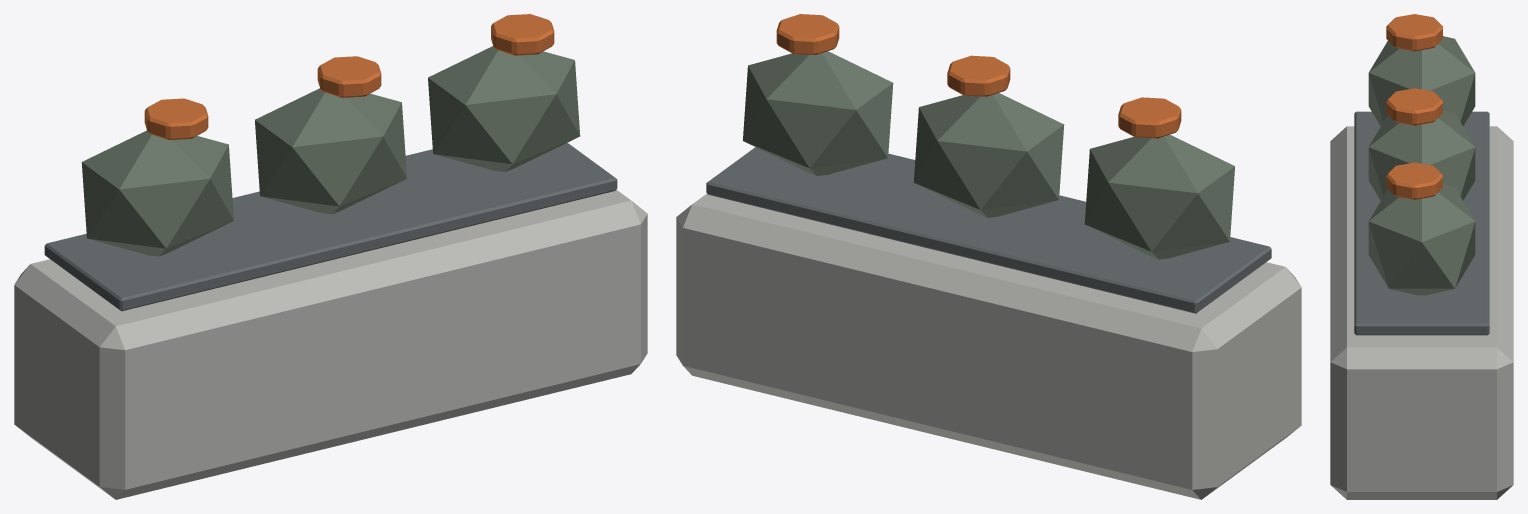
The model's file is PRP_CITY_011_planter_box_pair.glb.
3 views of the same model, side by side, from view 1: azimuth 30°, elevation 25°; view 2: azimuth 150°, elevation 25°; view 3: azimuth 270°, elevation 25° (orthographic). The views are drawn at different scales.
Visible parts, largest first — view 1: PRP_CITY_011_planter_box_pair_RenderMesh; view 2: PRP_CITY_011_planter_box_pair_RenderMesh; view 3: PRP_CITY_011_planter_box_pair_RenderMesh.
Boxes of the visible parts, <box> form: PRP_CITY_011_planter_box_pair_RenderMesh: <box>14,14,647,499</box>; PRP_CITY_011_planter_box_pair_RenderMesh: <box>676,14,1301,499</box>; PRP_CITY_011_planter_box_pair_RenderMesh: <box>1330,14,1513,499</box>.
Size of the model in its own units: 1.52 by 0.8925 by 0.5.
